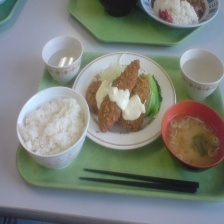rice: (16, 97, 87, 156)
